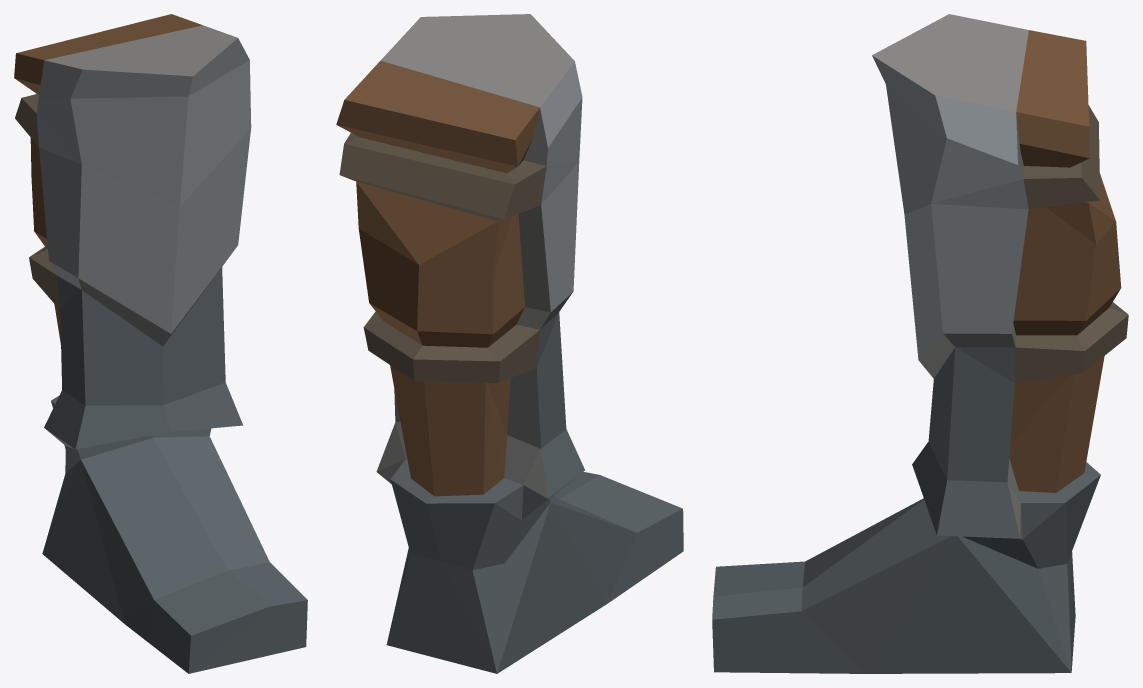
Rendered from Chr_LegLeft_Male_01_Static.fbx.
3 renders of one model, left to right at view 1: azimuth 30°, elevation 25°; view 2: azimuth 150°, elevation 25°; view 3: azimuth 270°, elevation 25°, orthographic. The views are drawn at different scales.
Visible parts, largest first — view 1: Chr_LegLeft_Male_01_Static; view 2: Chr_LegLeft_Male_01_Static; view 3: Chr_LegLeft_Male_01_Static.
Part boxes in pixels (left/top/right/bottom): Chr_LegLeft_Male_01_Static: left=14, top=14, right=307, bottom=673; Chr_LegLeft_Male_01_Static: left=336, top=14, right=683, bottom=673; Chr_LegLeft_Male_01_Static: left=712, top=14, right=1128, bottom=673.
Bounding box in the file's own units: 0.1406 × 0.4045 × 0.2573.
